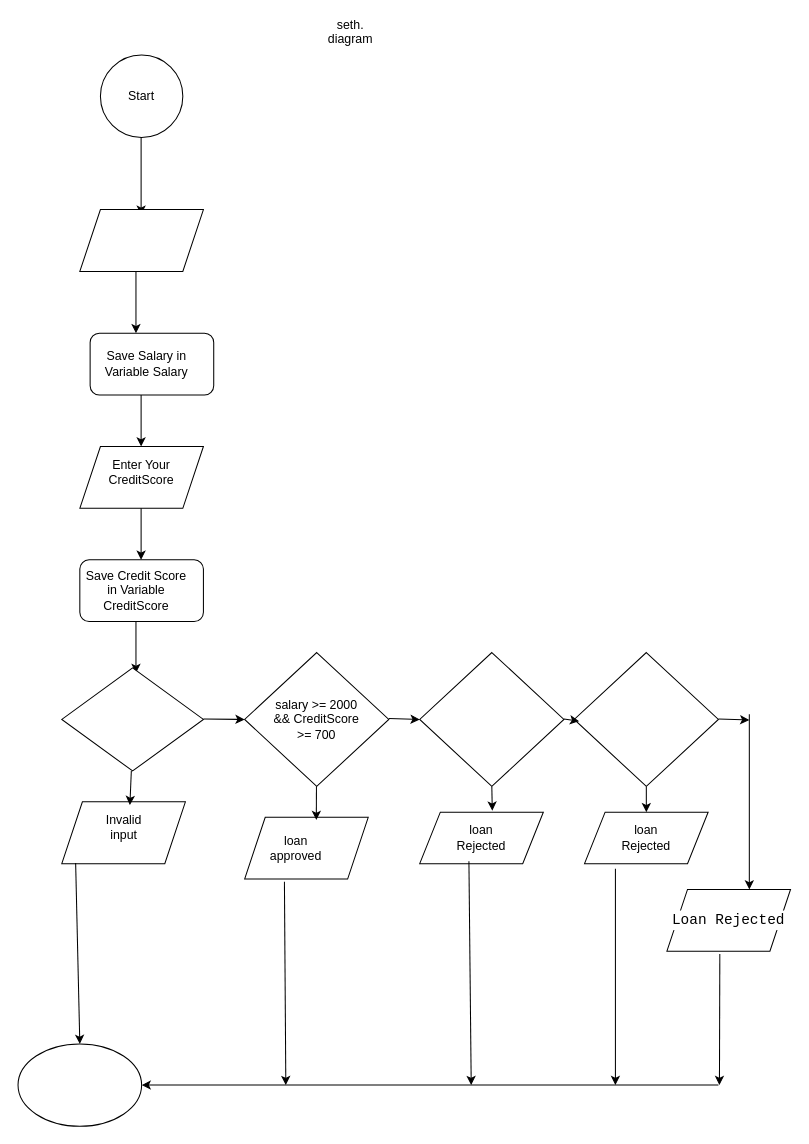
Image size: 809x1144. Some labels were removed from this diagram. The shapes that lost their labels are listed below. From the top down, each one's centre as x and y in pixels, then its label:
At point 141,240: "Enter Your monthly Salary".
At point 132,719: "Is not a number (salary) or (CreditScore)".
At point 491,718: "salary >= 2000 && CreditScore < 700".
At point 645,718: "salary < 2000 && CreditScore >= 700".
At point 79,1084: "End".
